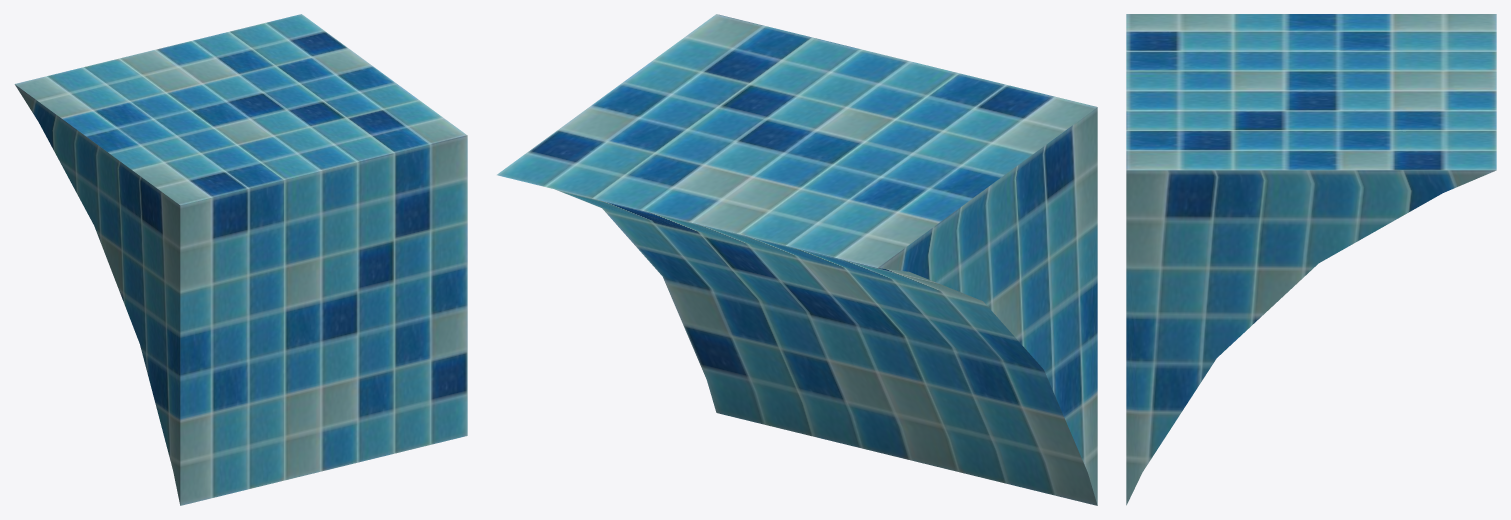
File: POL0310011.fbx
3 views of the same model, side by side, from view 1: azimuth 30°, elevation 25°; view 2: azimuth 150°, elevation 25°; view 3: azimuth 270°, elevation 25° (orthographic). The views are drawn at different scales.
Parts seen in each view (by area): view 1: smPOL0310011; view 2: smPOL0310011; view 3: smPOL0310011.
Boxes of the visible parts, x1,y1,x2,y2 form: smPOL0310011: (14,14,467,505); smPOL0310011: (497,14,1097,505); smPOL0310011: (1126,14,1496,505).
Size of the model in its own units: 161 by 161 by 161.
Materials: 1 (1 with a texture image).
